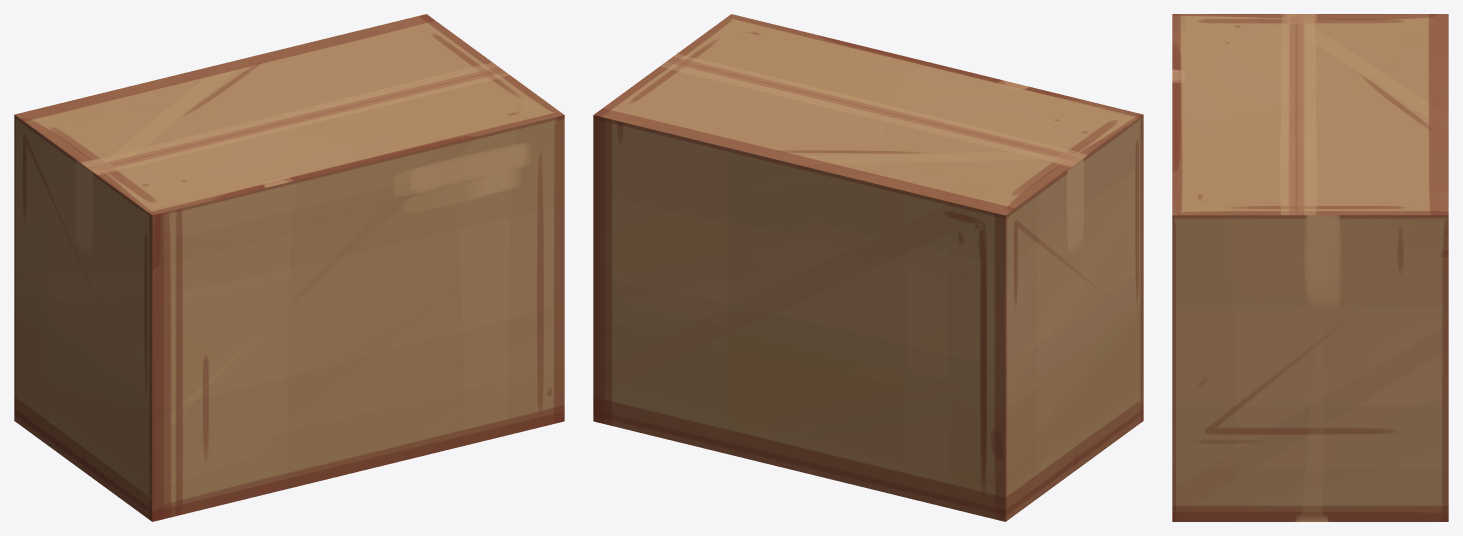
3 views of the same model, side by side, from view 1: azimuth 30°, elevation 25°; view 2: azimuth 150°, elevation 25°; view 3: azimuth 270°, elevation 25° (orthographic).
Visible parts, largest first — view 1: Box_05_collision; view 2: Box_05_collision; view 3: Box_05_collision.
Part boxes in pixels (x1,y1,x2,y2): Box_05_collision: [14, 14, 564, 521]; Box_05_collision: [593, 14, 1143, 521]; Box_05_collision: [1172, 14, 1448, 521].
Size of the model in its own units: 1.55 by 1.1 by 0.9011.
